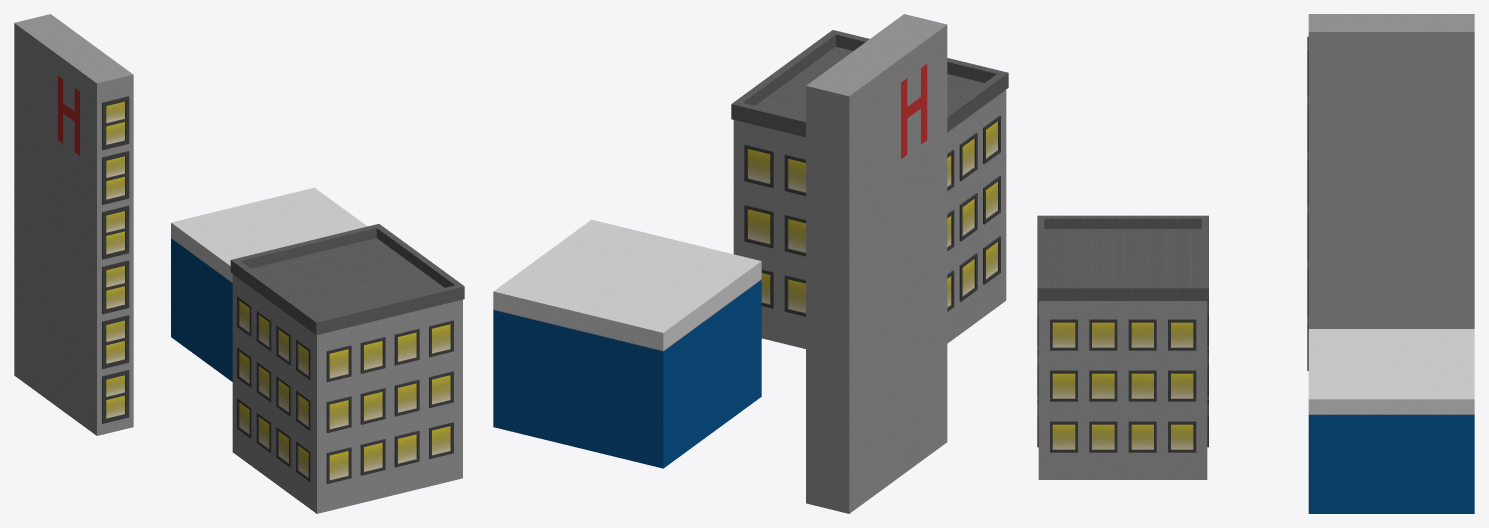
Rendered from City_01.fbx.
The picture shows the model from 3 angles, left to right: view 1: azimuth 30°, elevation 25°; view 2: azimuth 150°, elevation 25°; view 3: azimuth 270°, elevation 25°; orthographic projection. The views are drawn at different scales.
Parts seen in each view (by area): view 1: Building_01, Building_02, Building_03; view 2: Building_02, Building_03, Building_01; view 3: Building_02, Building_01, Building_03.
Part boxes in pixels (<box>): Building_01: <box>230,224,464,513</box>; Building_02: <box>14,14,133,435</box>; Building_03: <box>171,187,367,381</box>; Building_02: <box>806,14,947,513</box>; Building_03: <box>493,219,761,468</box>; Building_01: <box>731,30,1008,348</box>; Building_02: <box>1307,14,1474,370</box>; Building_01: <box>1037,215,1208,479</box>; Building_03: <box>1308,329,1474,513</box>.
Size of the model in its own units: 247 by 277 by 311.
